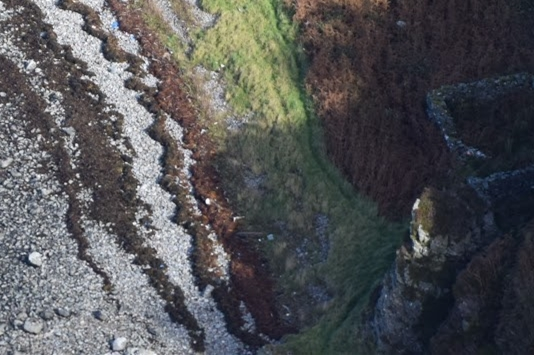scattered_barrel: (191, 184, 287, 249)
white_in_green: (97, 6, 135, 40)
